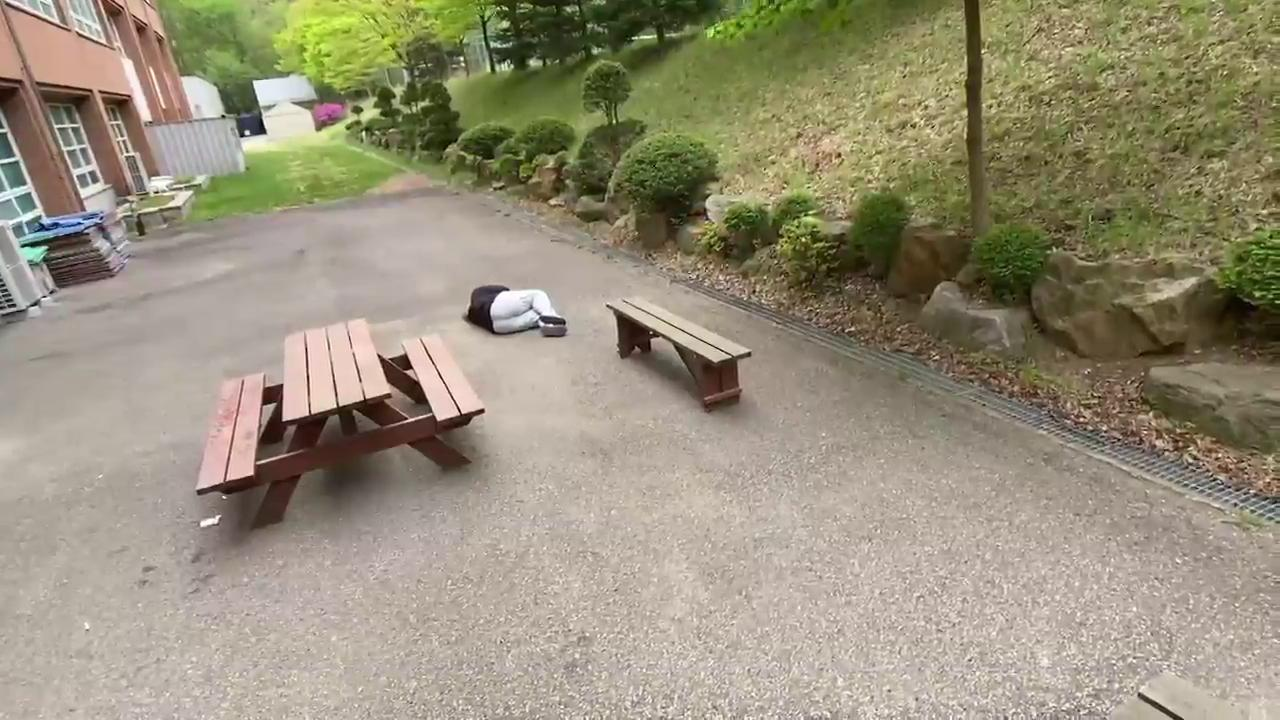faint: (464, 281, 569, 341)
